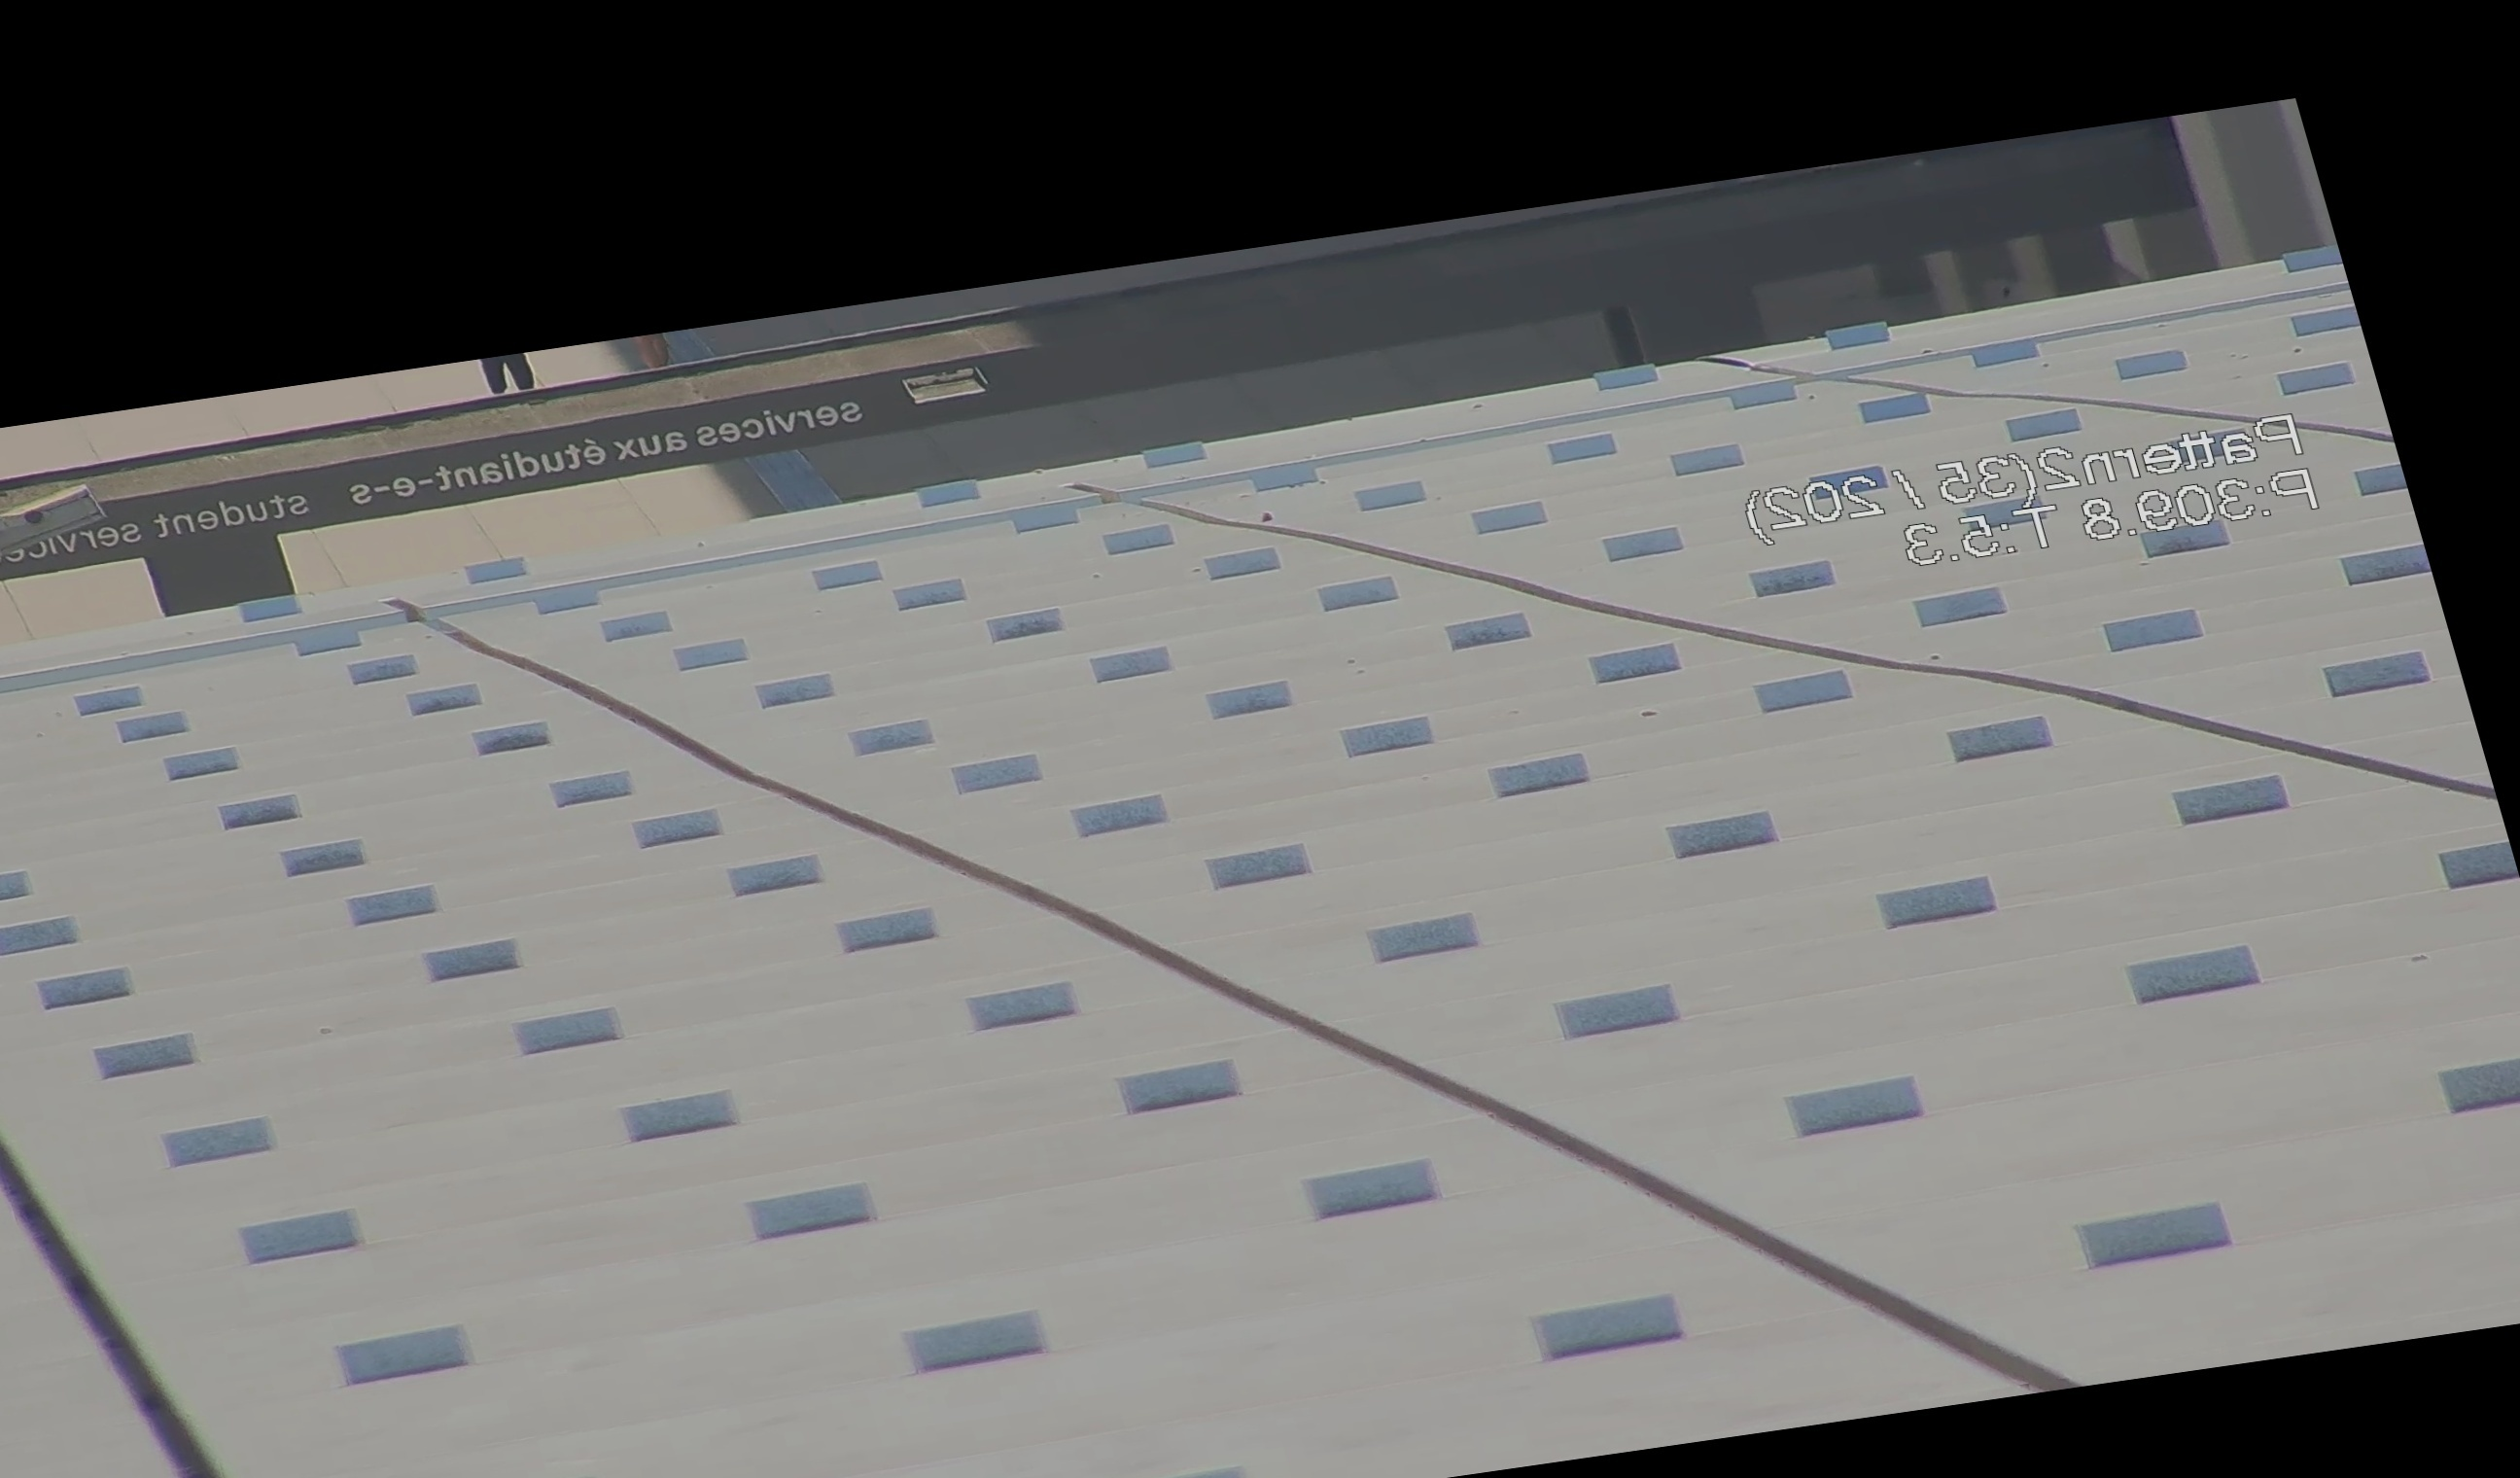Other: (406, 243, 566, 403)
